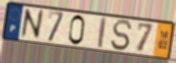0: (68, 14, 87, 46)
7: (47, 9, 65, 44), (136, 22, 154, 54)
I: (97, 16, 107, 50)
N: (19, 7, 44, 40)
S: (110, 19, 134, 52)
